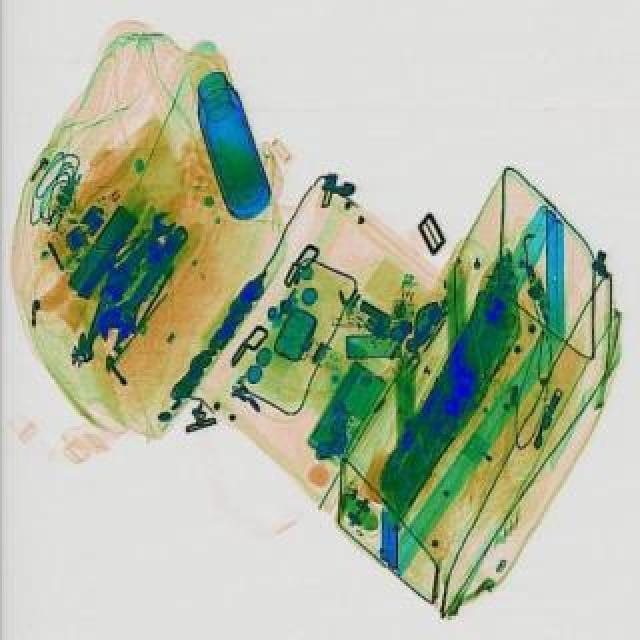scissors: (84, 216, 204, 352), (84, 206, 178, 302)
